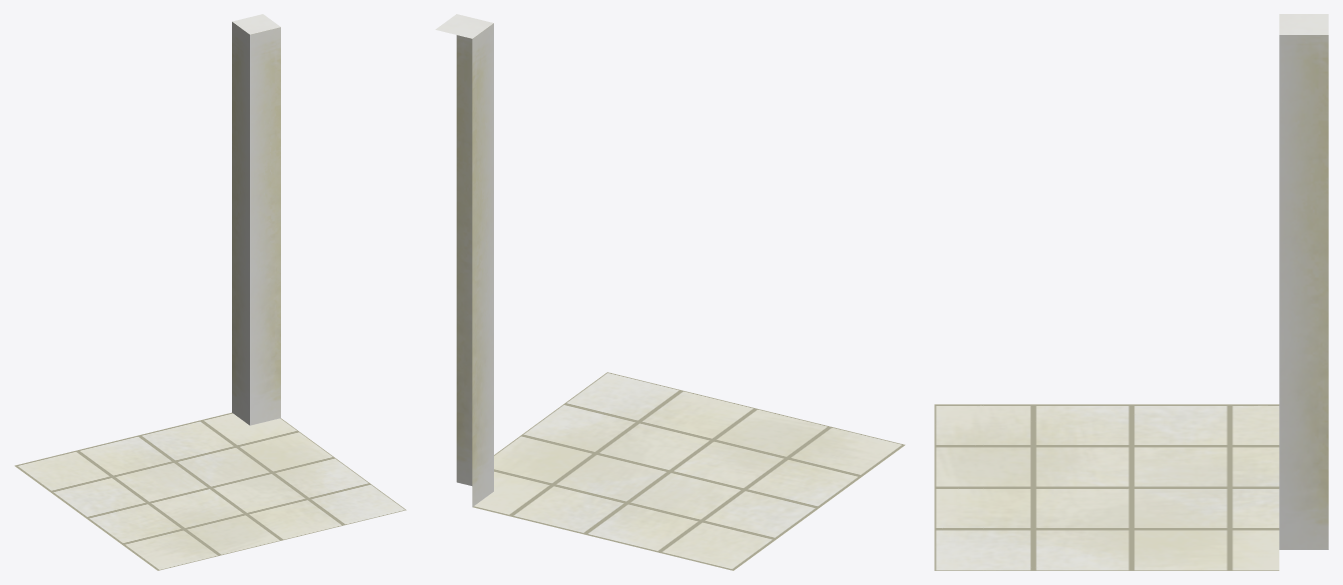
Rendered from maze_4way1column.FBX.
3 views of the same model, side by side, from view 1: azimuth 30°, elevation 25°; view 2: azimuth 150°, elevation 25°; view 3: azimuth 270°, elevation 25° (orthographic). The views are drawn at different scales.
Parts seen in each view (by area): view 1: Plane01; view 2: Plane01; view 3: Plane01.
Boxes of the visible parts, x1,y1,x2,y2 form: Plane01: (14,14,406,570); Plane01: (435,14,905,570); Plane01: (934,14,1328,570).
Size of the model in its own units: 32 by 48 by 32.
